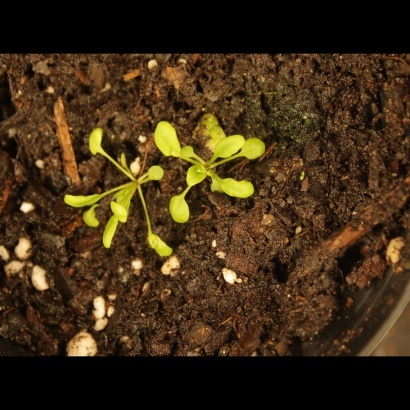leaf: (151, 117, 182, 161), (144, 228, 177, 265), (209, 133, 246, 160), (167, 192, 194, 228), (61, 189, 103, 212), (219, 174, 257, 199), (82, 126, 110, 158), (101, 217, 124, 252), (185, 162, 210, 190), (243, 136, 268, 162), (143, 162, 169, 186), (110, 197, 133, 223), (80, 207, 103, 230), (182, 137, 205, 160)
